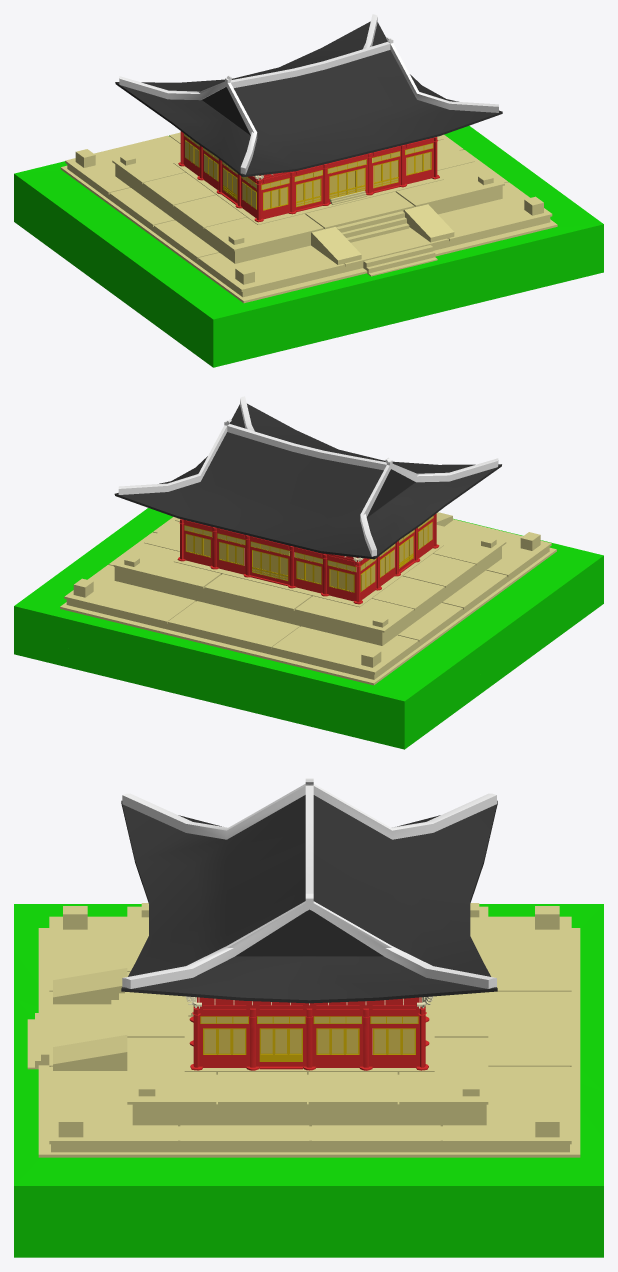
The model's file is Deoksugung-Palace.glb.
3 views of the same model, one above another, from view 1: azimuth 30°, elevation 25°; view 2: azimuth 150°, elevation 25°; view 3: azimuth 270°, elevation 25° (orthographic). The views are drawn at different scales.
Parts seen in each view (by area): view 1: model_6.156; view 2: model_6.156; view 3: model_6.156.
Part boxes in pixels (bbox=[...]): model_6.156: bbox=[14, 14, 603, 367]; model_6.156: bbox=[14, 396, 603, 749]; model_6.156: bbox=[14, 778, 603, 1257].
Bounding box in the file's own units: 0.3954 × 0.1834 × 0.3495.
